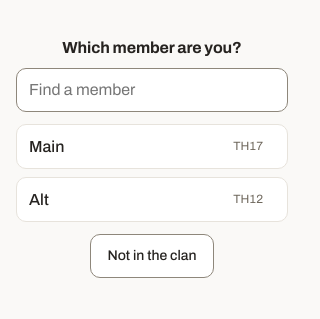
it: PlayerClaim › stays on the screen and says why when a claim is refused
Click the button "Alt TH12" at (39, 199), box [16,176,288,222]
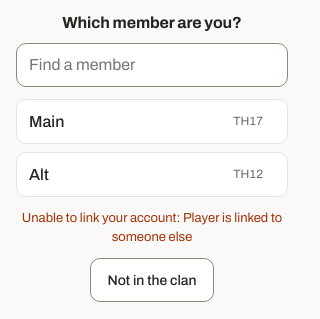
Check: the message shows "Player is linked to someone else", box [22,211,282,244]
